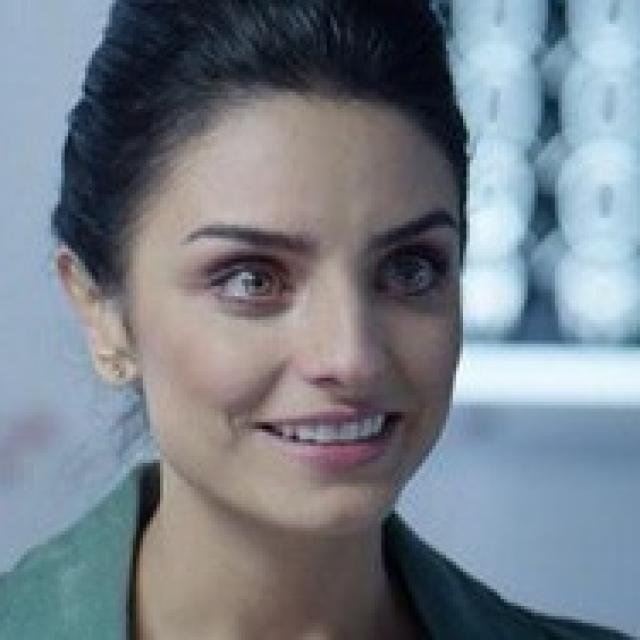Normal: (130, 92, 465, 540)
